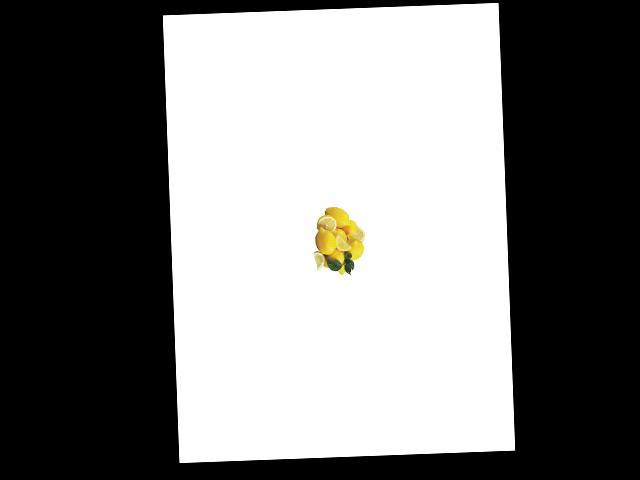lemon: (322, 245, 345, 269)
